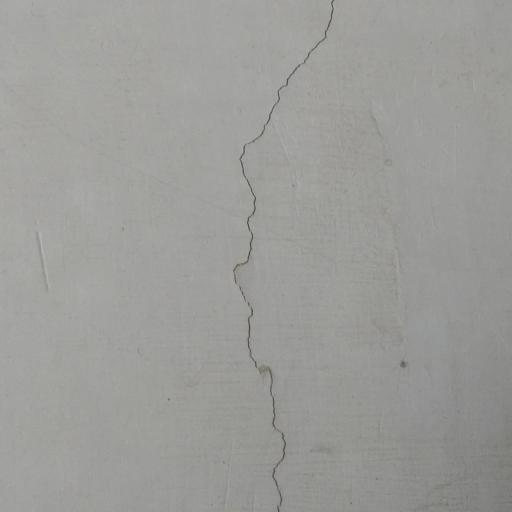minor_crack: (226, 0, 344, 512)
